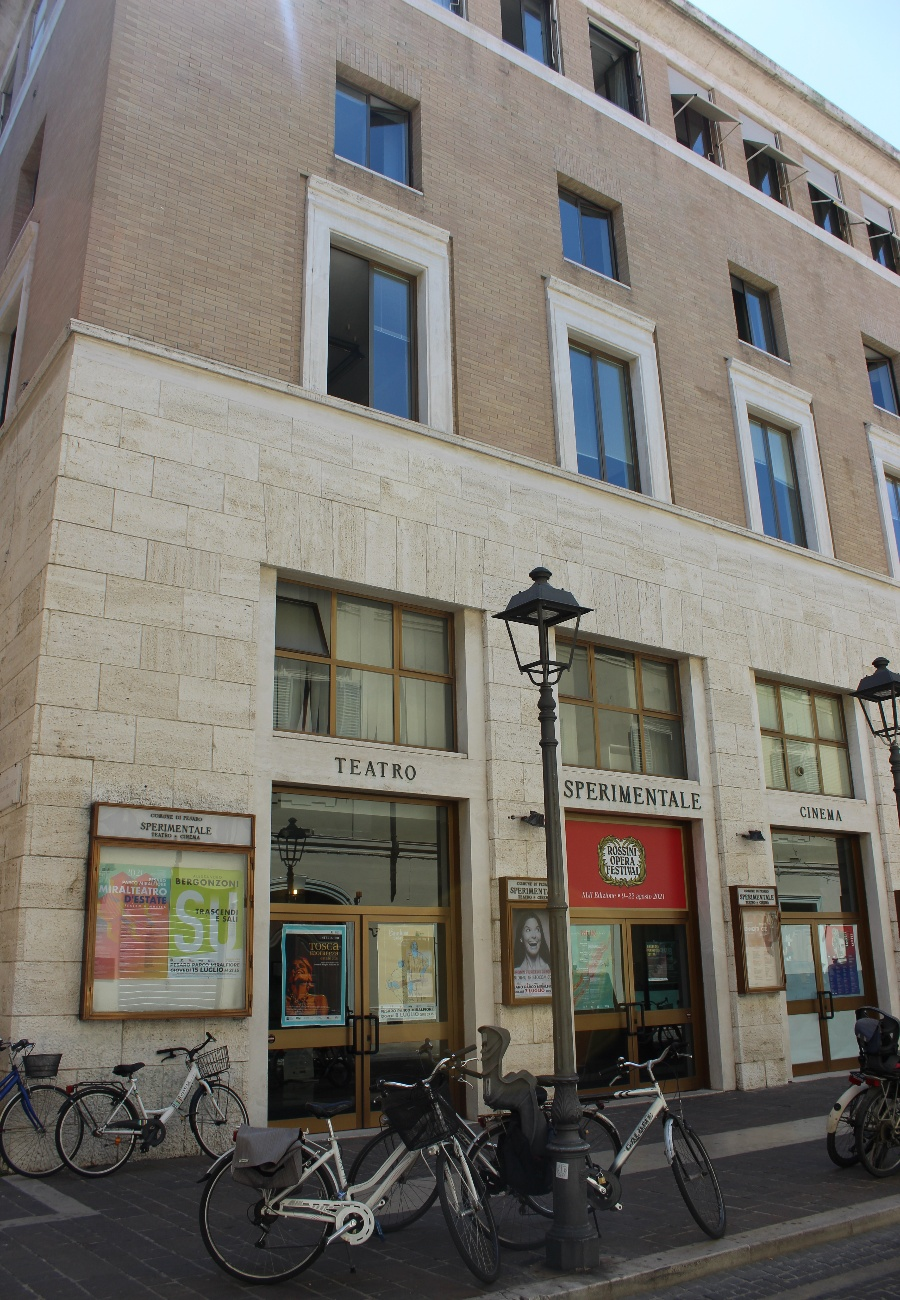Teatro Sperimentale: (82, 1, 900, 1151)
